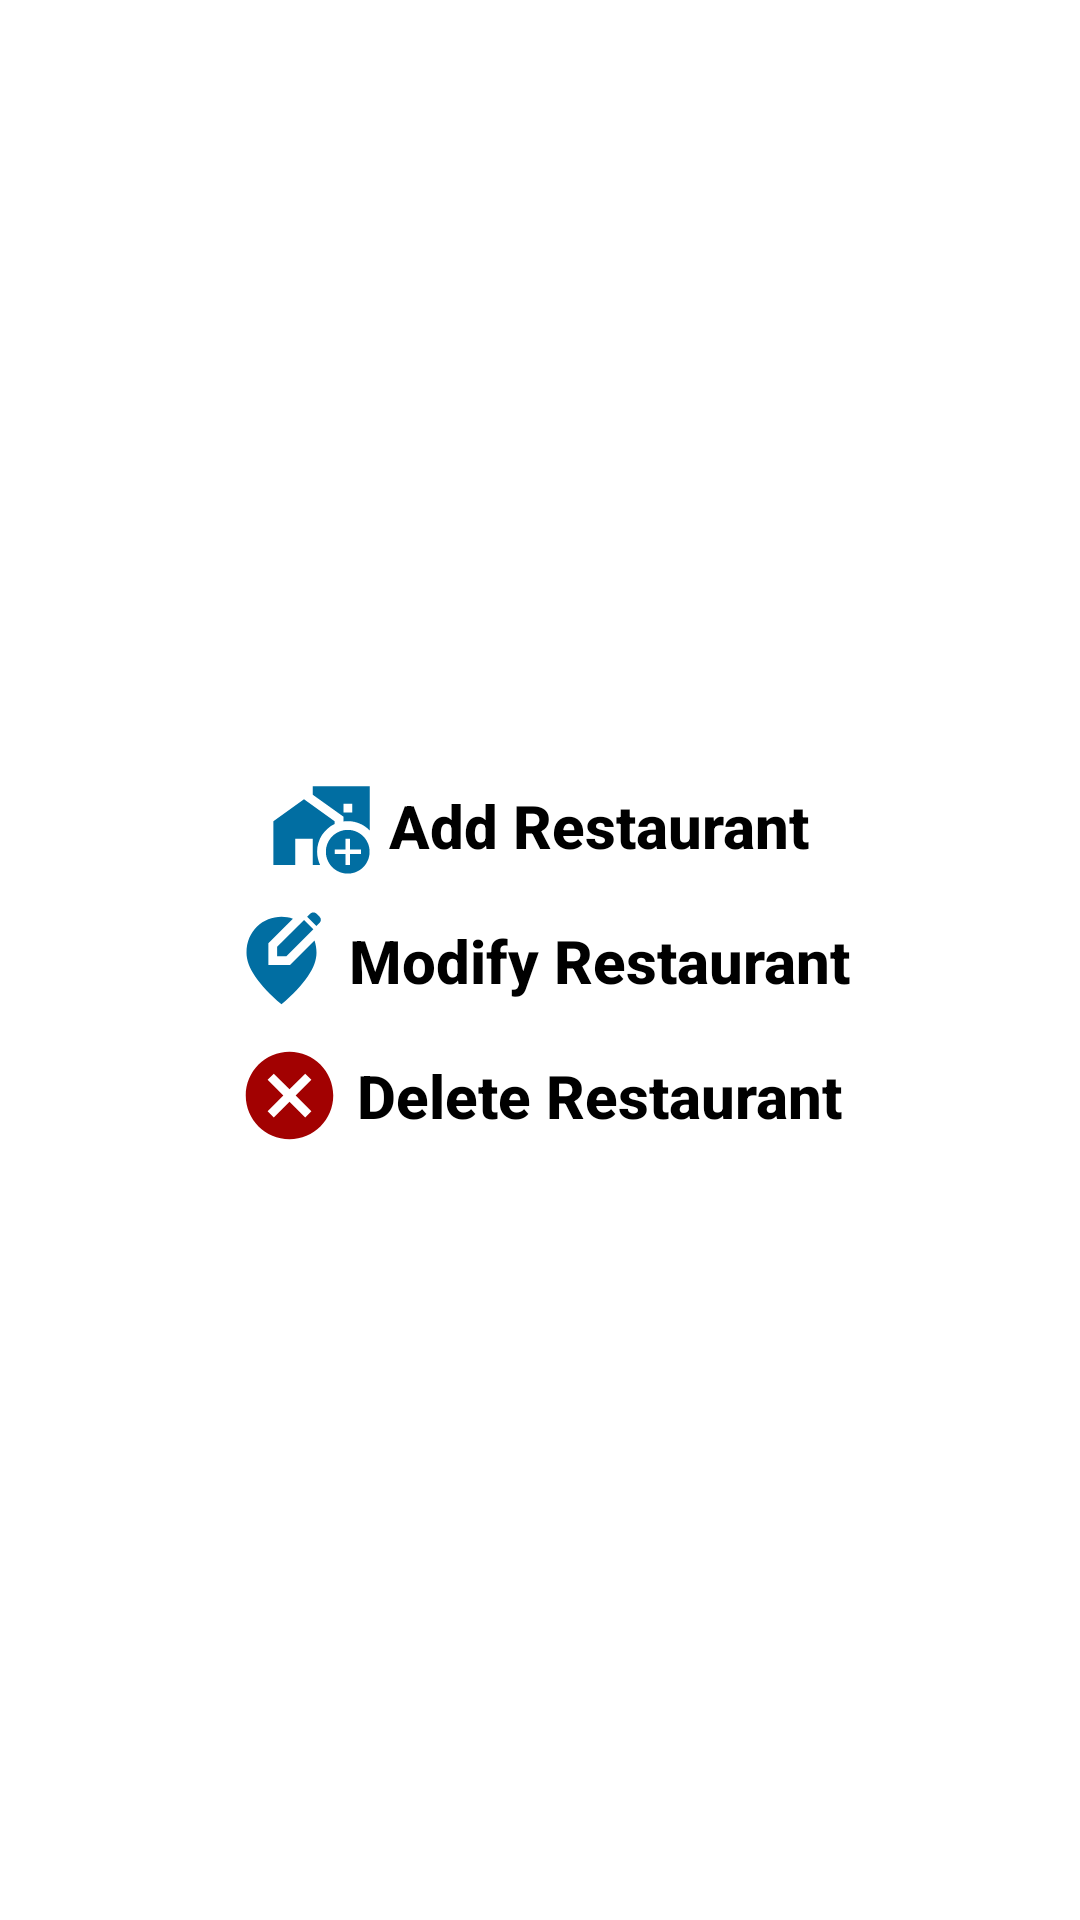

Icon bounding boxes for this 1080px×1920px phone screenshot, format bbox=[x1, y1, x2, y2]:
close: bbox=[245, 1051, 334, 1140]
edit location: bbox=[246, 912, 321, 1004]
